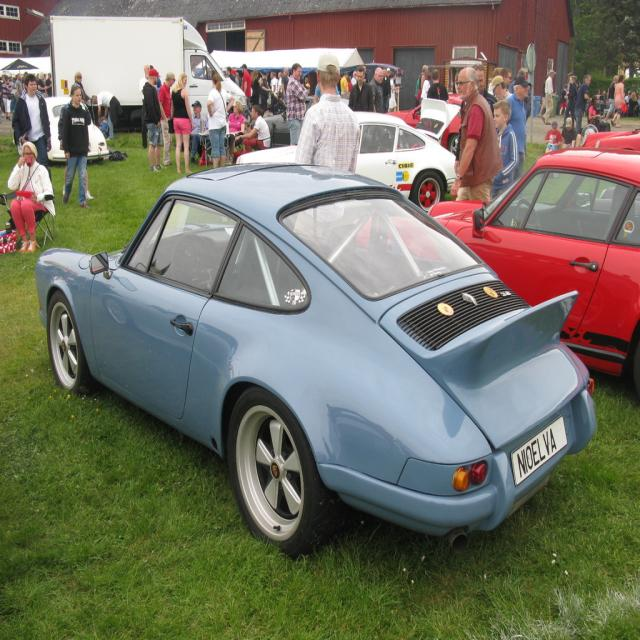car: (34, 151, 591, 564), (354, 146, 639, 400), (237, 105, 459, 212), (42, 92, 110, 168), (391, 91, 466, 149), (576, 122, 639, 149)
